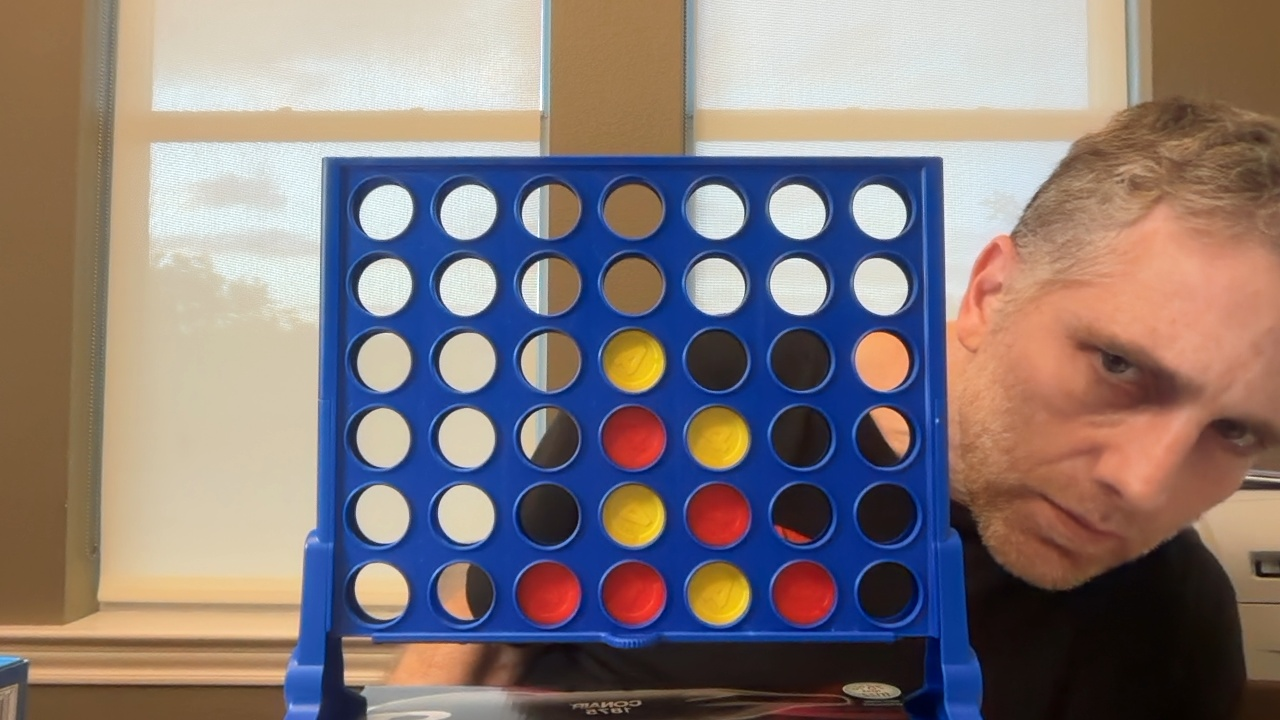red piece: (516, 561, 581, 626), (602, 561, 666, 626), (772, 561, 836, 626), (686, 483, 750, 547), (602, 406, 665, 469)
yellow piece: (687, 561, 750, 625), (602, 483, 665, 547), (602, 329, 665, 392), (687, 406, 749, 469)
